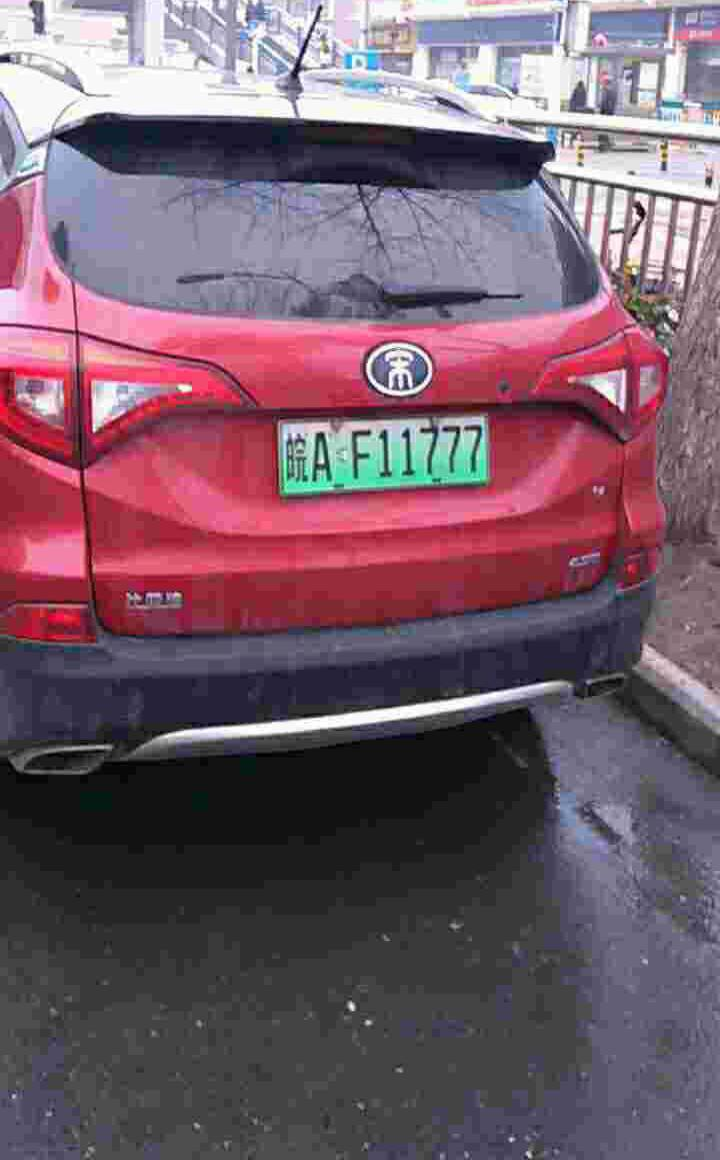car: (281, 423, 501, 483)
